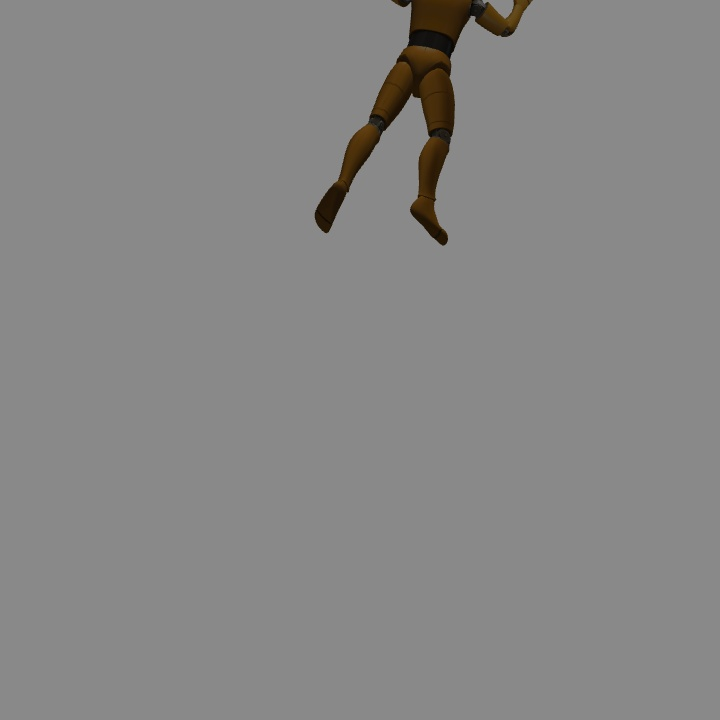victim: (391, 1, 476, 245)
